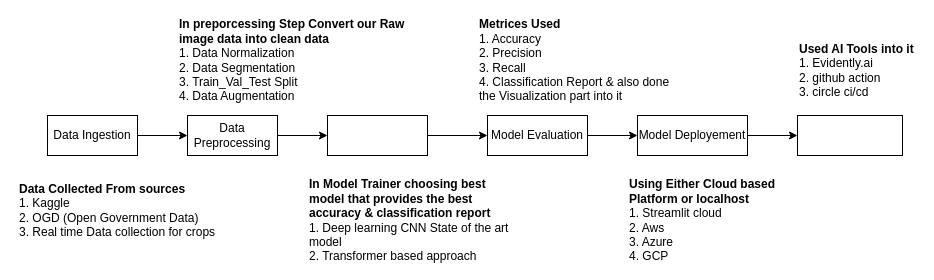
This 934x280 diagram has some shape labels left out. Each missing label, with the centre of its shape:
Data Monitoring: point 849,135
Model Training & Validation: point 377,135
